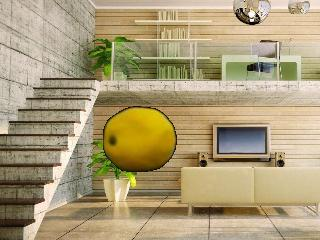lemon: (104, 109, 175, 172)
